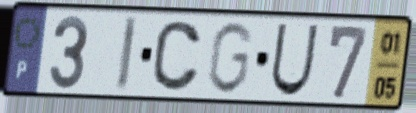3: (46, 12, 89, 92)
7: (326, 22, 370, 102)
C: (149, 18, 204, 94)
G: (204, 20, 256, 97)
I: (113, 13, 140, 94)
U: (268, 21, 321, 99)
